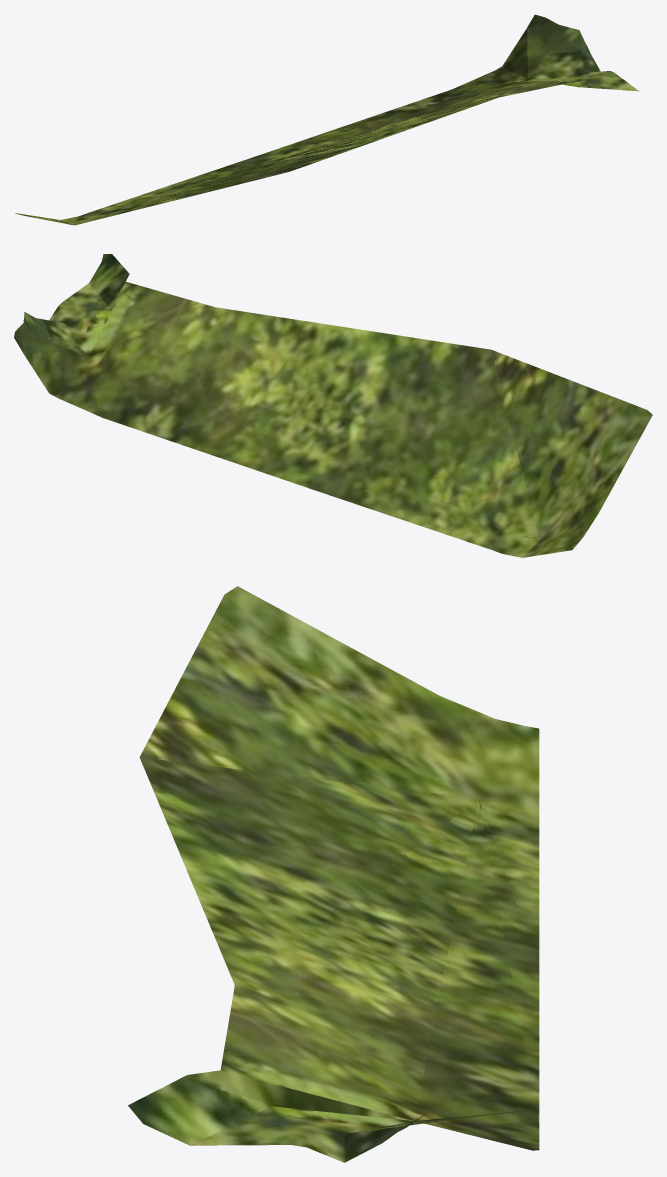
3 renders of one model, top to bottom at view 1: azimuth 30°, elevation 25°; view 2: azimuth 150°, elevation 25°; view 3: azimuth 270°, elevation 25°, orthographic. The views are drawn at different scales.
Size of the model in its own units: 2.95 by 0.4742 by 0.9762.
1 material, 1 textured.
